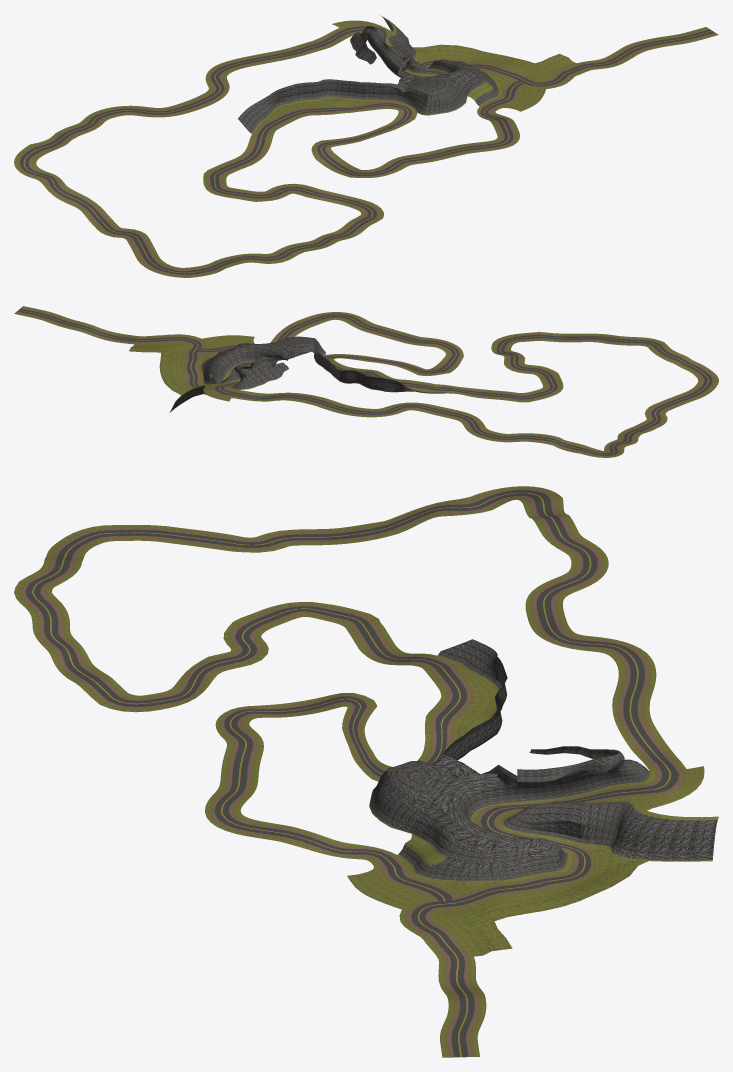
Rendered from road.fbx.
3 views of the same model, one above another, from view 1: azimuth 30°, elevation 25°; view 2: azimuth 150°, elevation 25°; view 3: azimuth 270°, elevation 25° (orthographic). The views are drawn at different scales.
Parts seen in each view (by area): view 1: road; view 2: road; view 3: road.
Boxes of the visible parts, x1,y1,x2,y2 form: road: (14, 15, 718, 277); road: (14, 306, 718, 457); road: (14, 486, 718, 1057).
Bounding box in the file's own units: 61553 × 4064 × 33650.
1 material, 1 textured.
